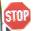Stop sign: (0, 0, 34, 30)
